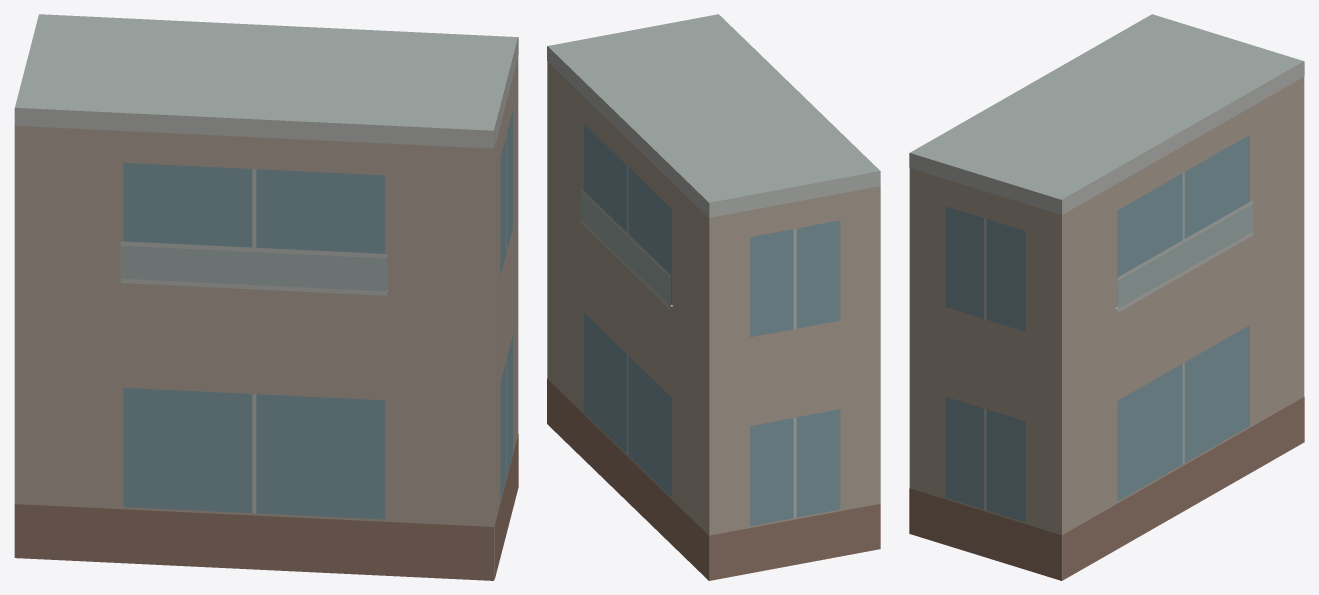
Rendered from survey-upis-32691105.glb.
The picture shows the model from 3 angles, left to right: view 1: azimuth 30°, elevation 25°; view 2: azimuth 150°, elevation 25°; view 3: azimuth 270°, elevation 25°; orthographic projection. The views are drawn at different scales.
Visible parts, largest first — view 1: survey-upis-32691105.tmp; view 2: survey-upis-32691105.tmp; view 3: survey-upis-32691105.tmp.
Boxes of the visible parts, x1,y1,x2,y2 form: survey-upis-32691105.tmp: (14, 14, 518, 580); survey-upis-32691105.tmp: (547, 14, 880, 580); survey-upis-32691105.tmp: (909, 14, 1304, 580).
Size of the model in its own units: 6.39 by 6.1 by 5.74.
